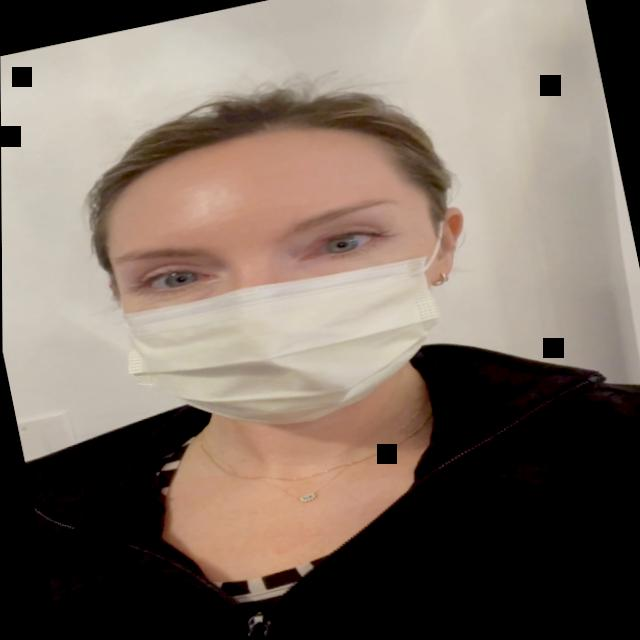Mask: (81, 97, 480, 456)
